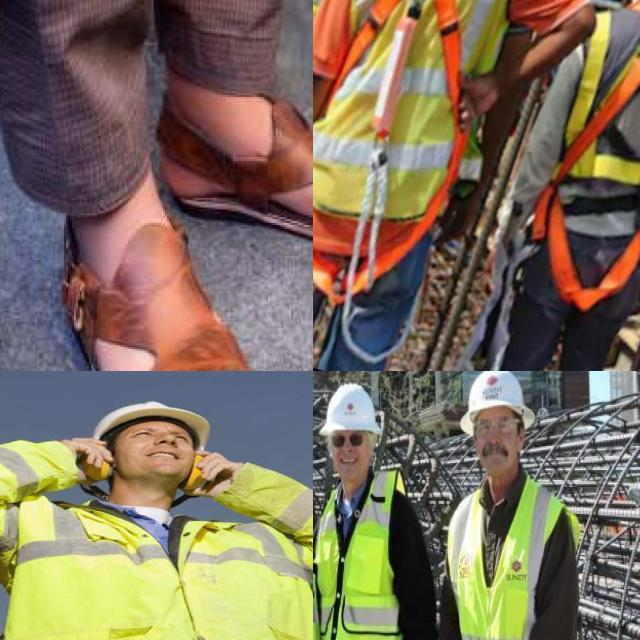Harness: (532, 47, 640, 313), (373, 0, 428, 140)
Sandals: (60, 205, 283, 371), (157, 74, 313, 247)
face_nomask: (109, 415, 201, 486), (466, 406, 521, 472), (328, 426, 368, 488)
glasses: (468, 414, 521, 441), (328, 426, 368, 450)
hand_noglove: (48, 435, 127, 476), (192, 452, 256, 494)
head_helmet: (73, 380, 211, 427), (453, 371, 540, 428), (314, 385, 387, 433)
person: (0, 390, 313, 640), (438, 371, 588, 640), (313, 382, 435, 640)
vest: (0, 495, 313, 640), (443, 481, 581, 640), (313, 478, 430, 640)
